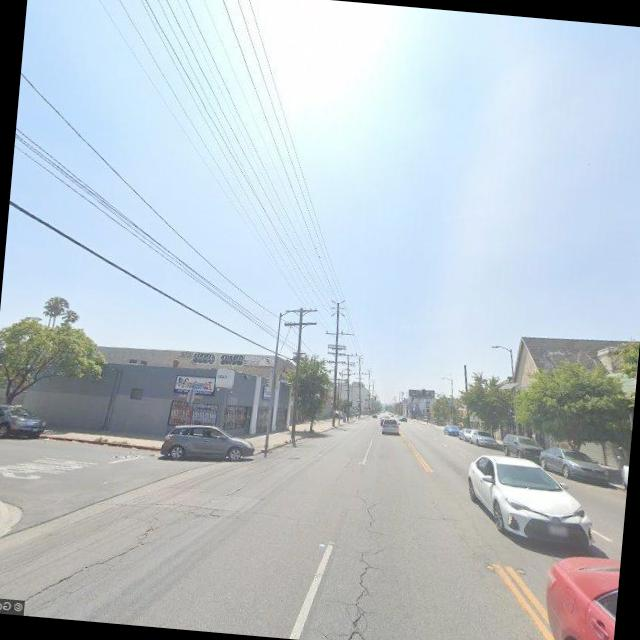crack: (316, 544, 391, 640)
pothole: (12, 501, 162, 622), (352, 486, 382, 536)
